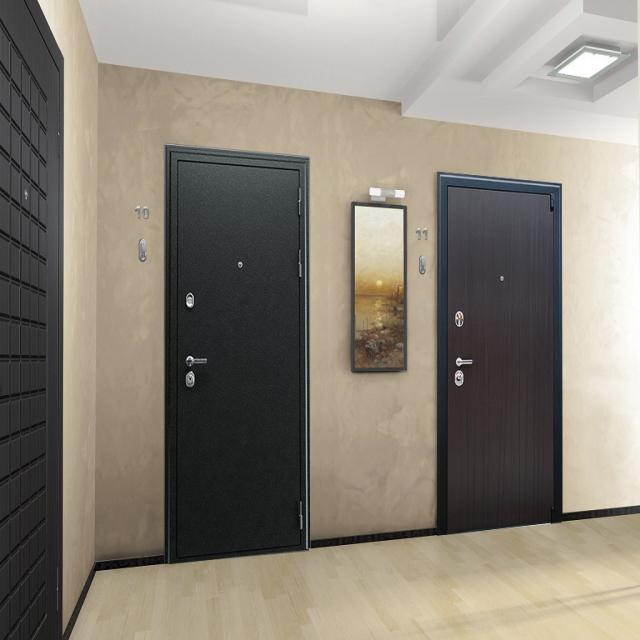close: (169, 154, 314, 558), (440, 172, 568, 528)
